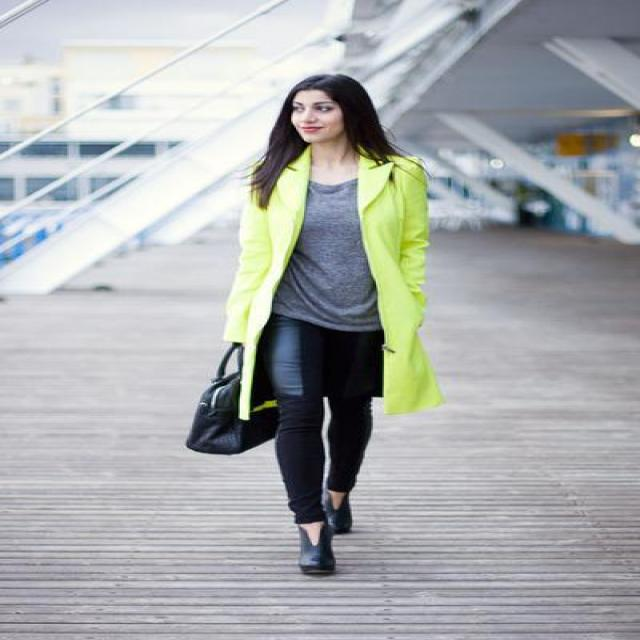bag: (186, 346, 272, 454)
jacket: (211, 144, 442, 419)
pants: (232, 308, 384, 505)
shirt: (270, 178, 381, 331)
shoe: (280, 499, 354, 575)
